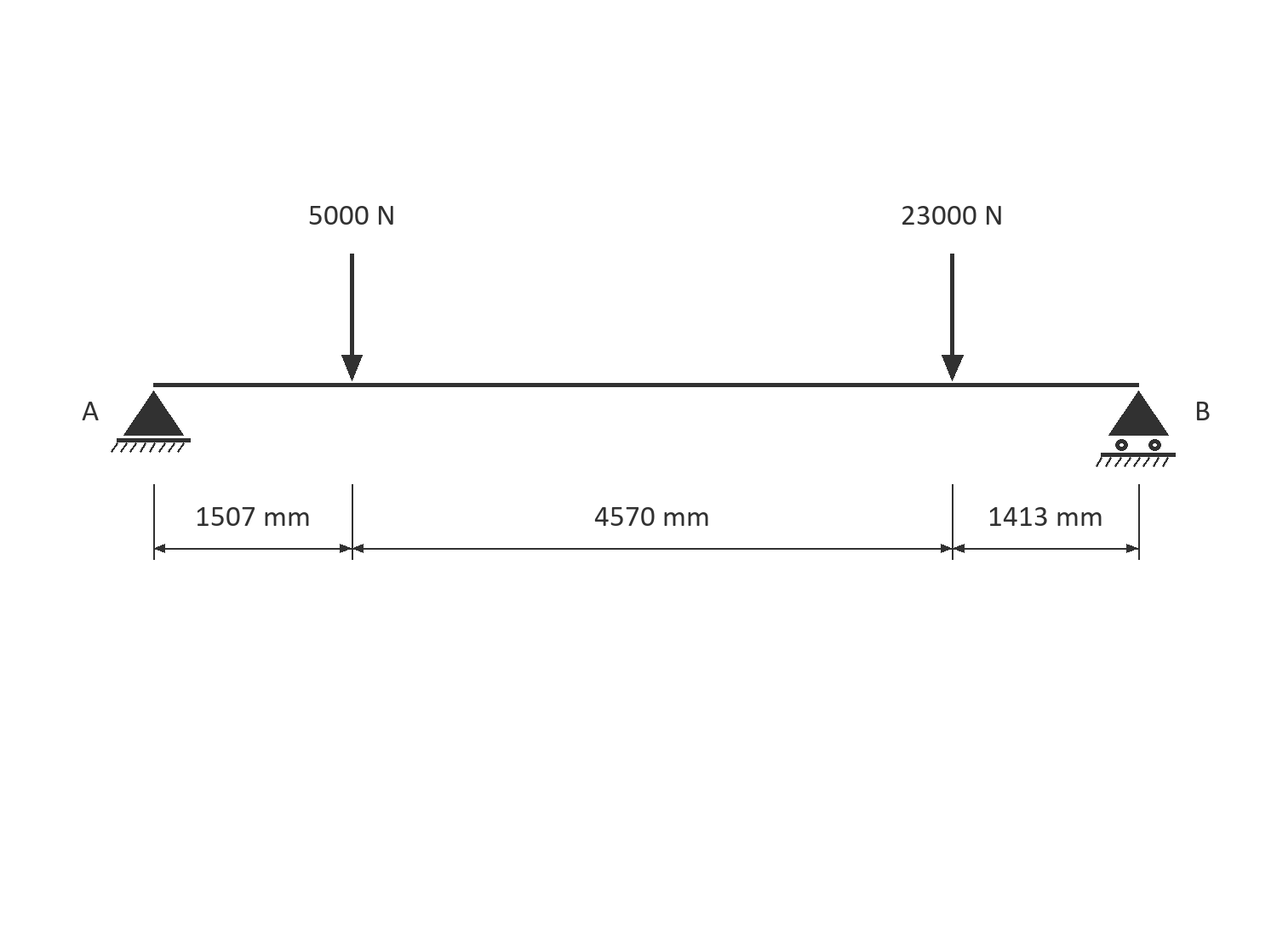pin_support: (111, 391, 191, 453)
point_load: (341, 254, 363, 381), (942, 254, 964, 381)
roller_support: (1096, 391, 1176, 467)
